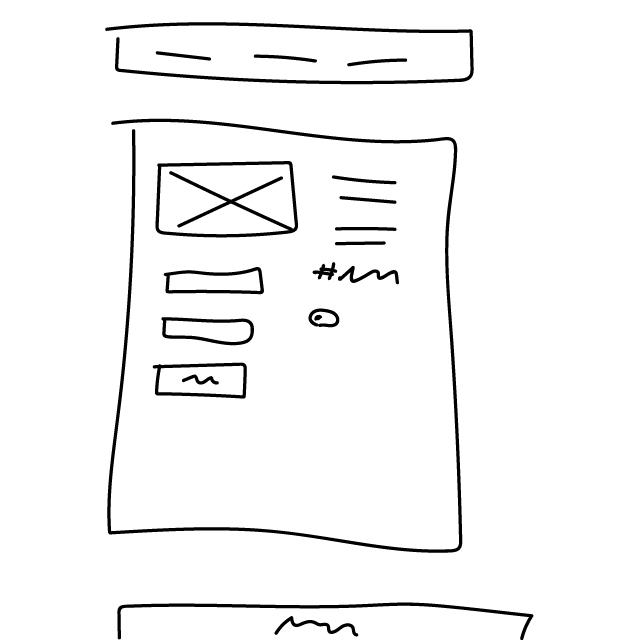buttonrotation: (152, 355, 256, 407)
checkboxrotation: (306, 305, 345, 331)
containerrotation: (96, 107, 489, 564)
footerrotation: (109, 591, 545, 640)
framerotation: (151, 161, 306, 239)
headingrotation: (315, 261, 411, 291)
inputrotation: (159, 313, 260, 351), (159, 267, 269, 299)
navrotation: (105, 17, 487, 92)
textrotation: (330, 170, 406, 253)
